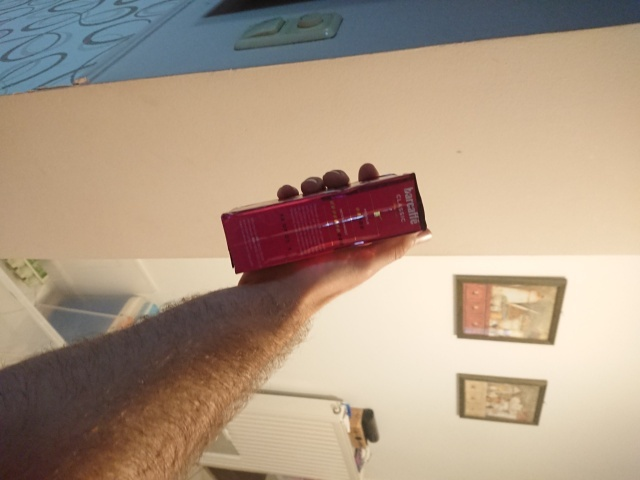Barcaffe Classic Original 225g: (219, 170, 429, 276)
